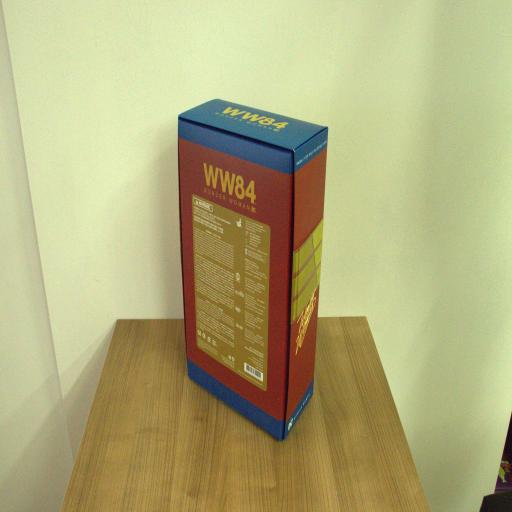WonderWoman: (177, 96, 329, 440)
